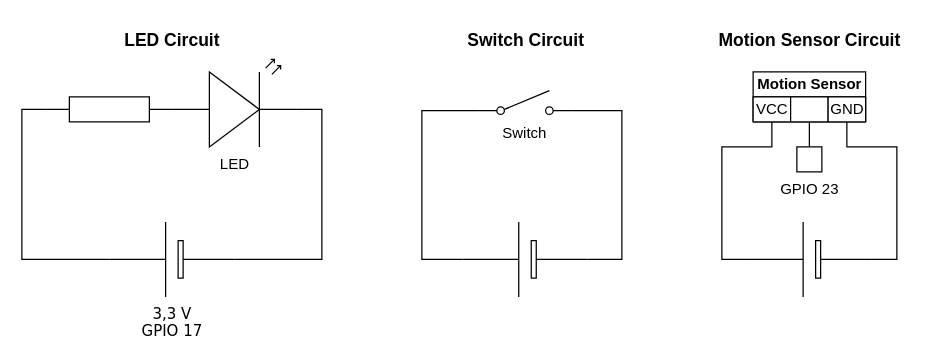
Some shapes in this 944 by 363 pixel diagram are drawn without their labels. The centre of each missing label's shape, as x and y in pixels:
200 Ω: [109,109]
3,3 V GPIO 27: [524,259]
5 V: [809,259]
OUT: [808,109]
